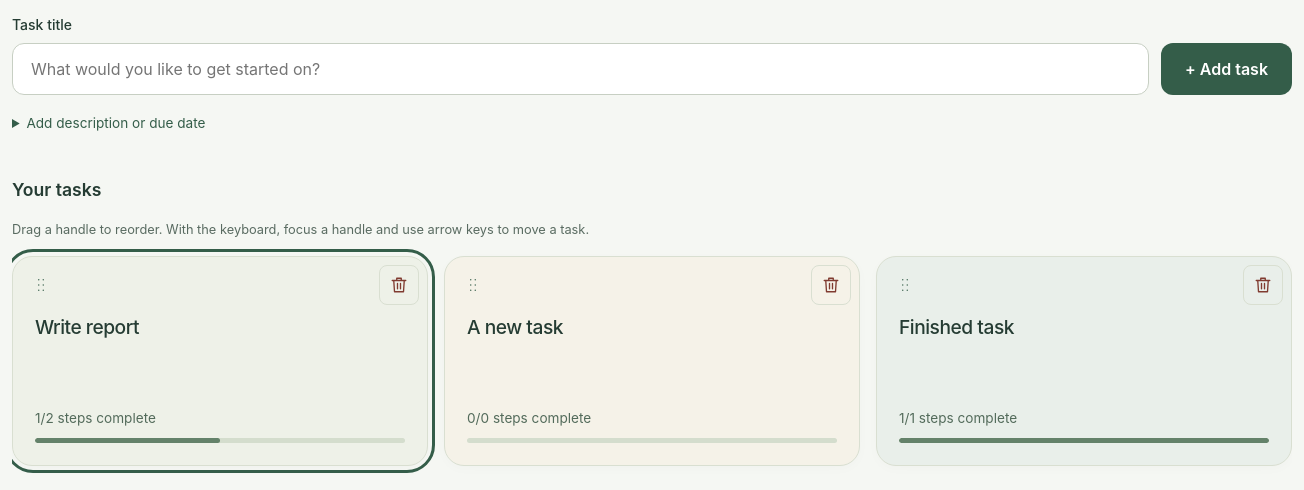
Test: dashboard cards expose progress and support keyboard navigation into a task
The width and height of the screenshot is (1304, 490).
Expected: the element showing "1/2 steps complete" is shown, [35,400,405,444]
Expected: the text "0/0 steps complete" is shown, [467,410,591,426]
Press Enter
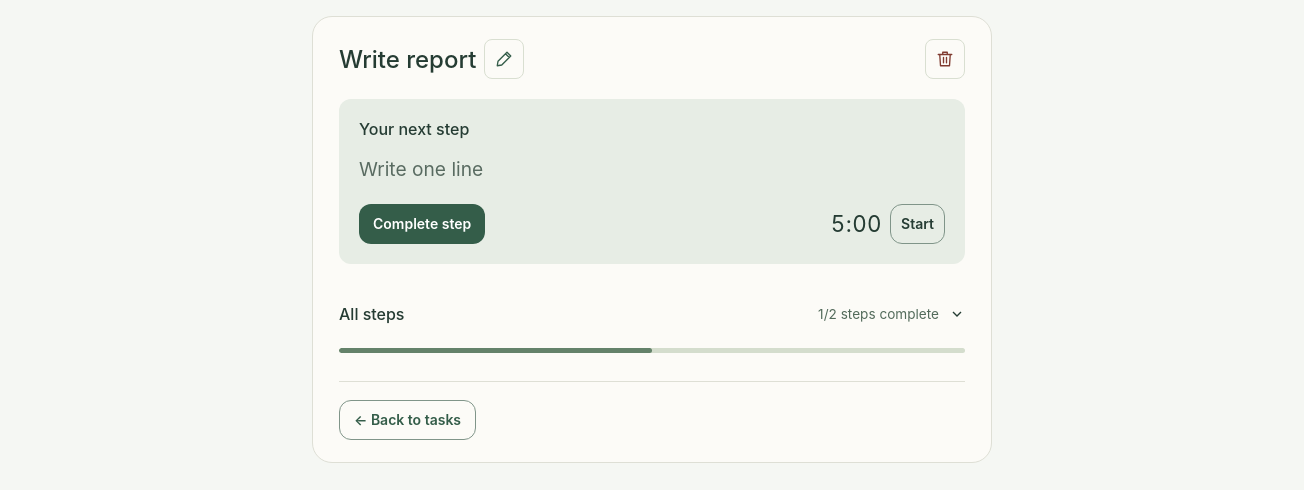
Now the text "Write one line" is shown, box [359,157,483,181]
Click the button "← Back to tasks" at (408, 420), box [339,400,476,440]
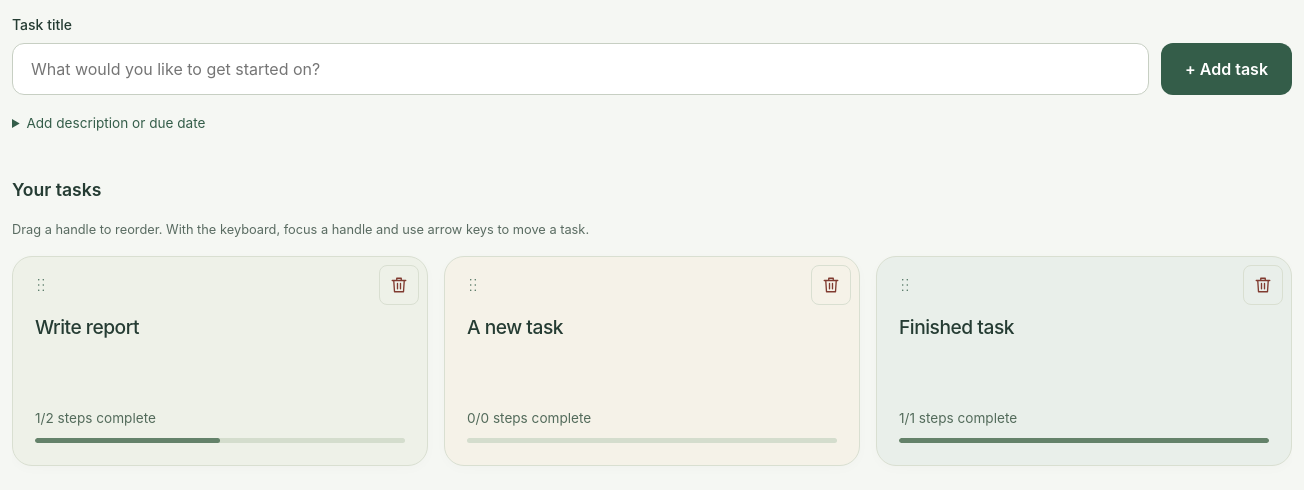
Now the navigation bar named "Your tasks" is shown, box [12,256,1292,466]
